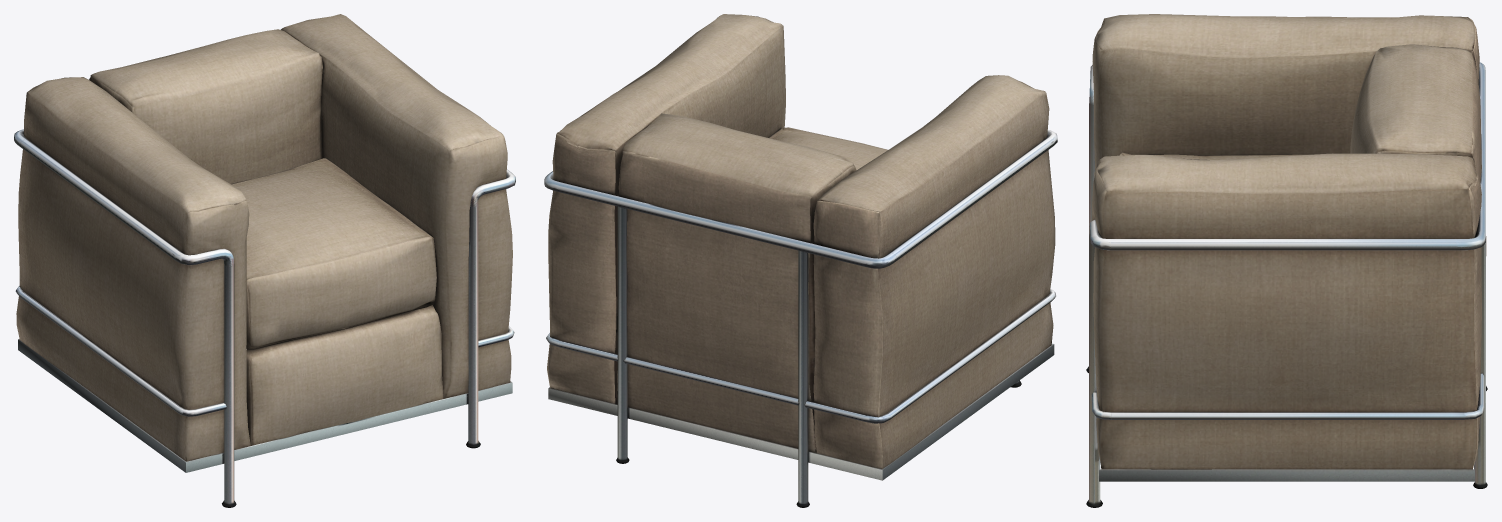
The model's file is raw_model.obj.
3 renders of one model, left to right at view 1: azimuth 30°, elevation 25°; view 2: azimuth 150°, elevation 25°; view 3: azimuth 270°, elevation 25°, orthographic. The views are drawn at different scales.
Visible parts, largest first — view 1: Body; view 2: Body; view 3: Body.
Part boxes in pixels (x1,y1,x2,y2): Body: [14, 14, 515, 507]; Body: [544, 14, 1057, 507]; Body: [1086, 14, 1487, 507].
Bounding box in the file's own units: 0.7924 × 0.6867 × 0.7105.
Materials: 1 (1 with a texture image).
